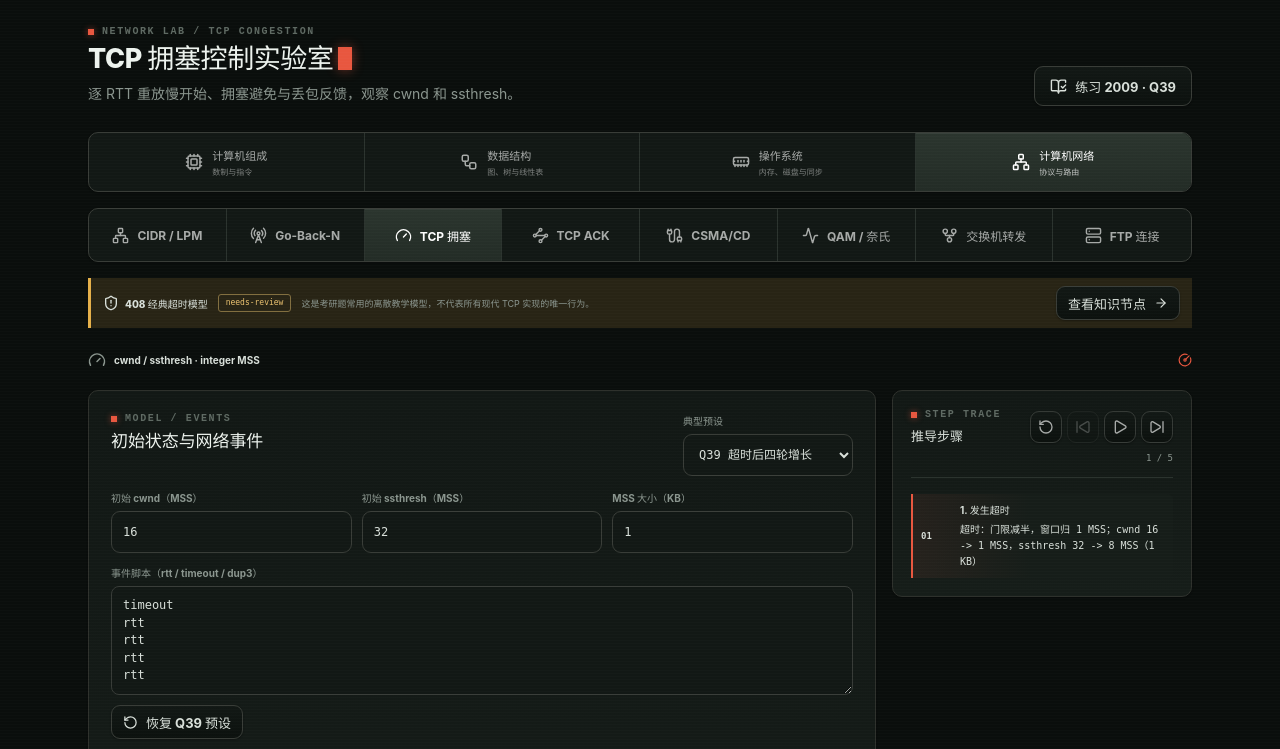
TcpCongestionLabPage › replays the Q39 timeout and four acknowledged RTTs in the classic model
This screenshot has width=1280, height=749.
Expected: the heading "TCP 拥塞控制实验室" is shown, [88, 42, 334, 75]
Expected: the text "408 经典超时模型" is shown, [103, 296, 208, 312]
Click the button named "下一步" at (1157, 428), box [1141, 412, 1173, 444]
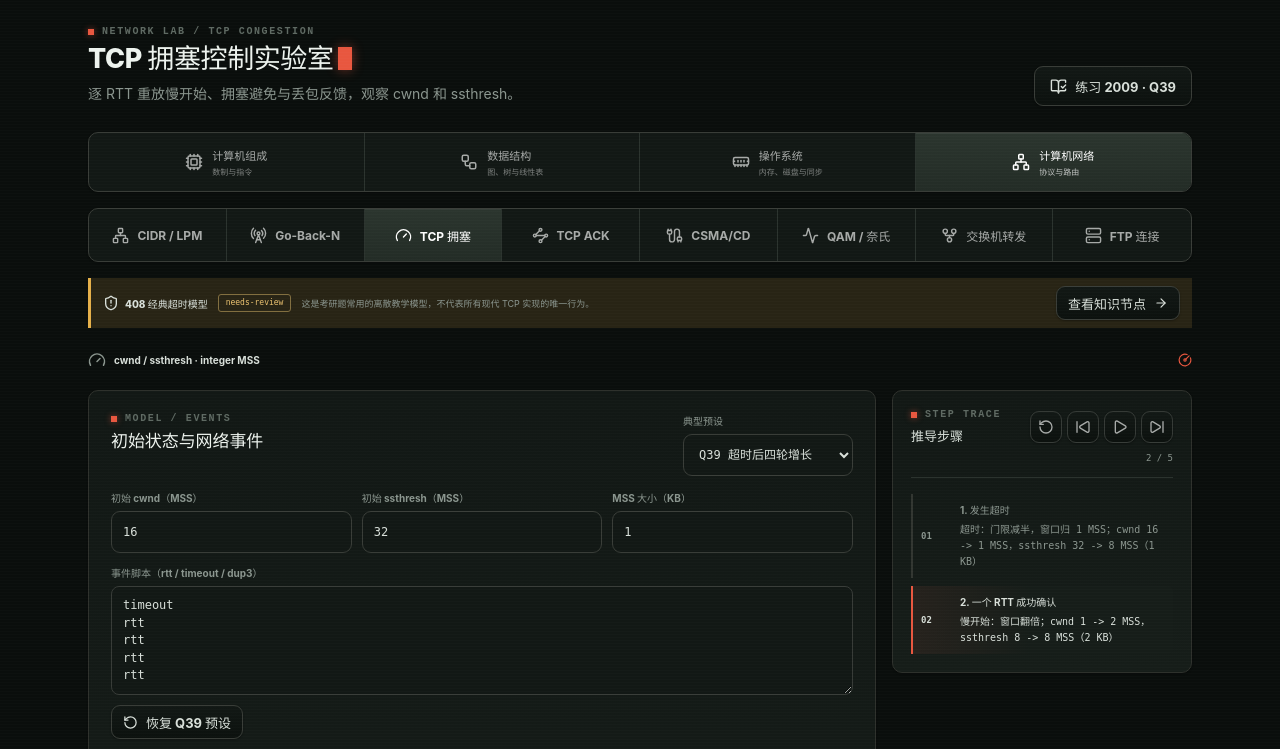
Click the button named "下一步" at (1157, 428), box [1141, 412, 1173, 444]
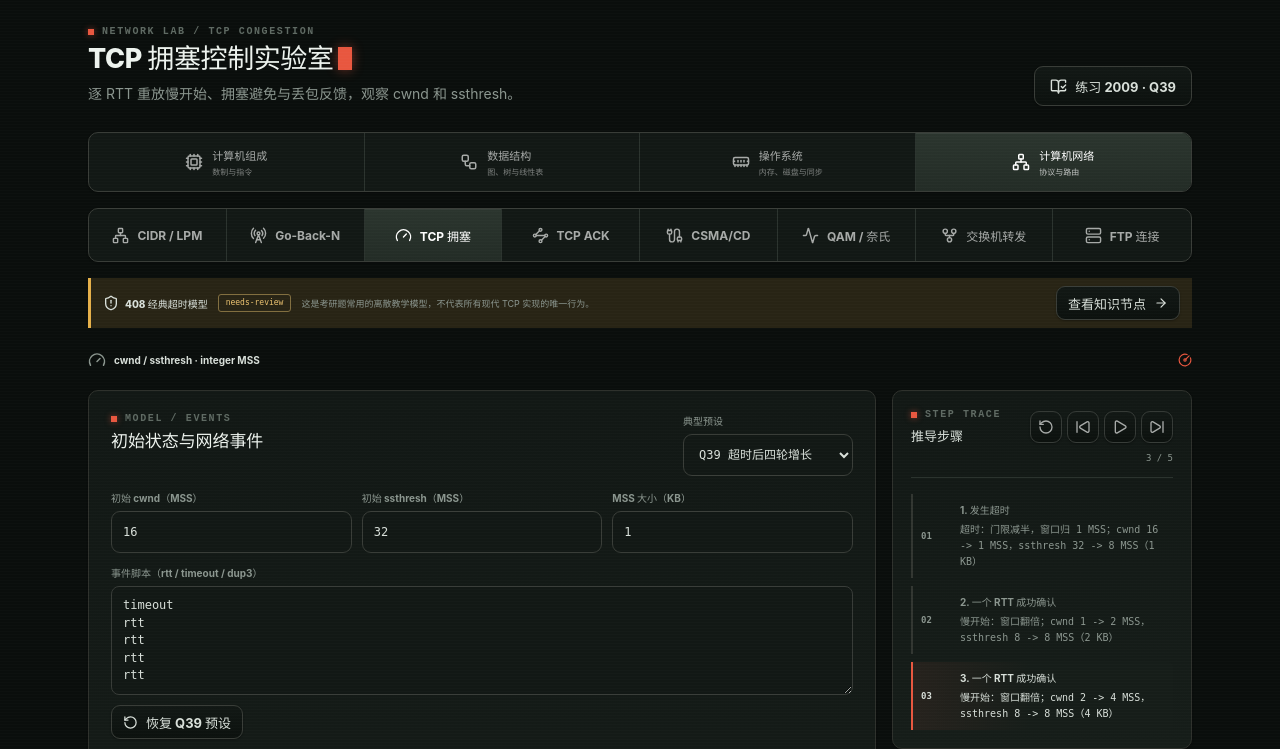
Click the button named "下一步" at (1157, 428), box [1141, 412, 1173, 444]
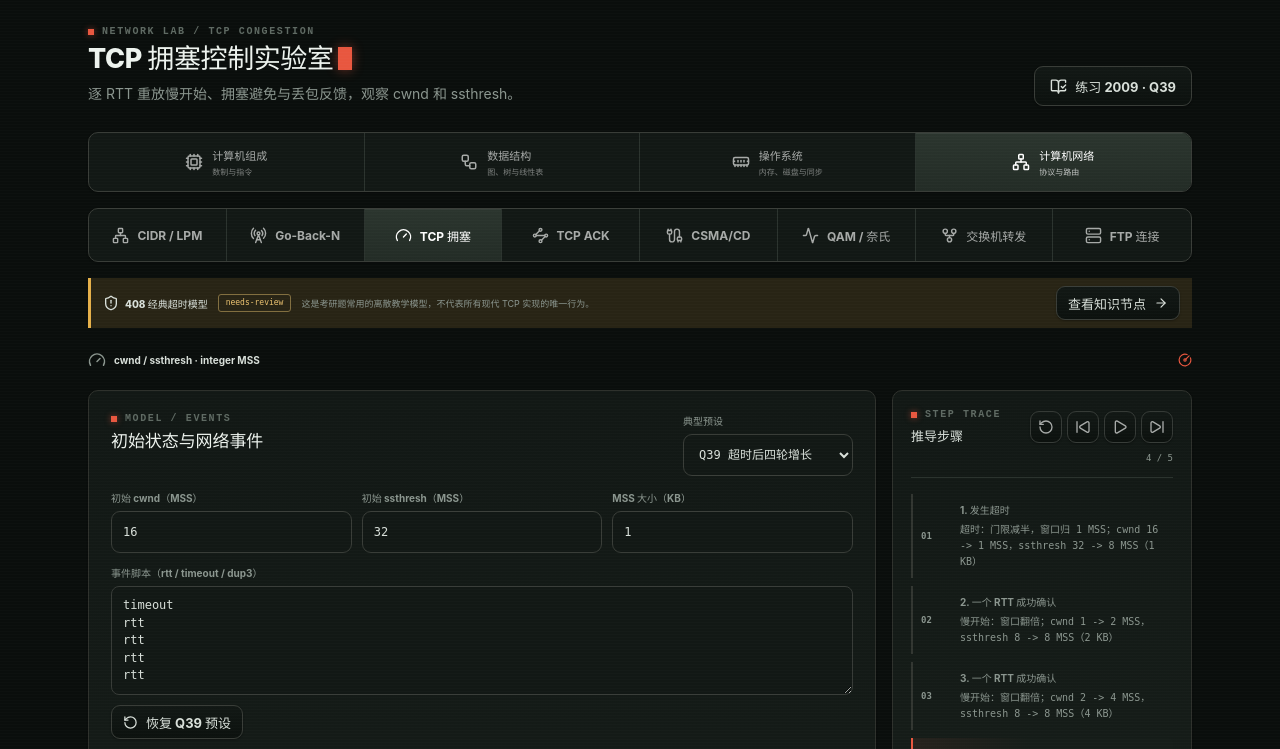
Click the button named "下一步" at (1157, 428), box [1141, 412, 1173, 444]
(page scrolled)
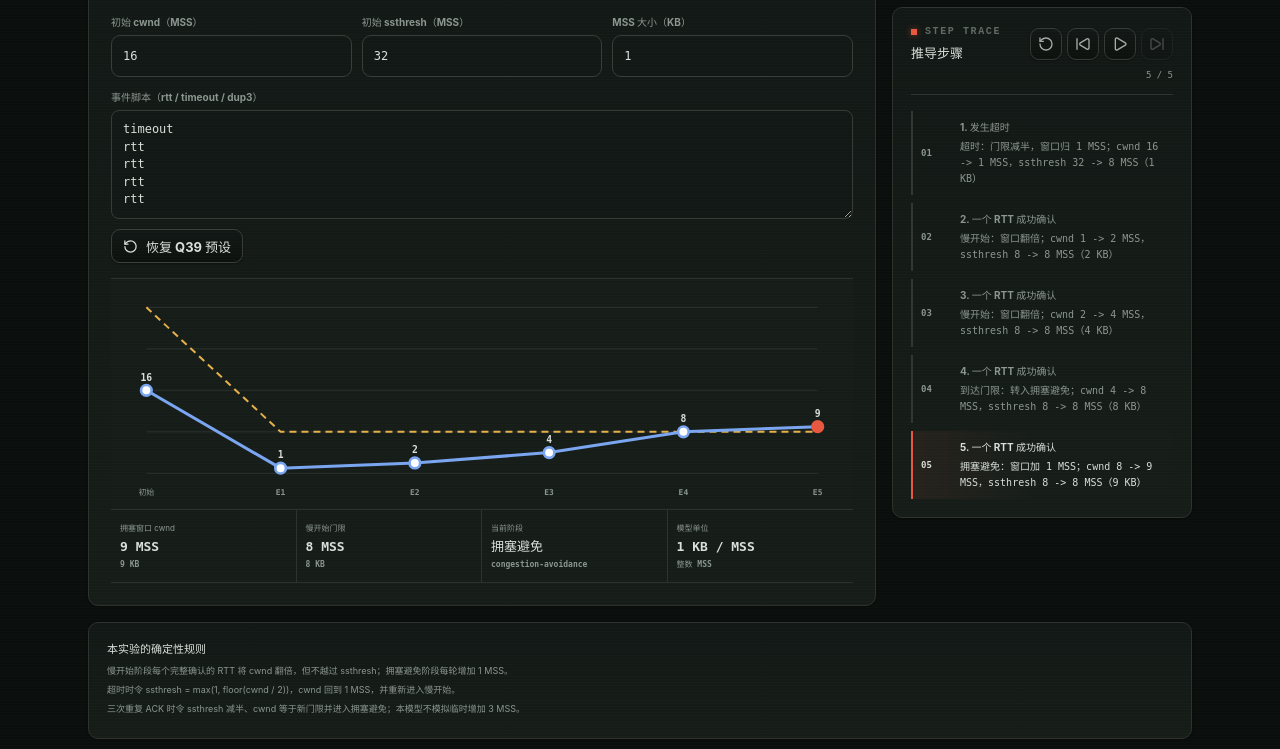
Result: the element with class "tcp-state-summary" shows "9 MSS" at [111, 510, 853, 583]
